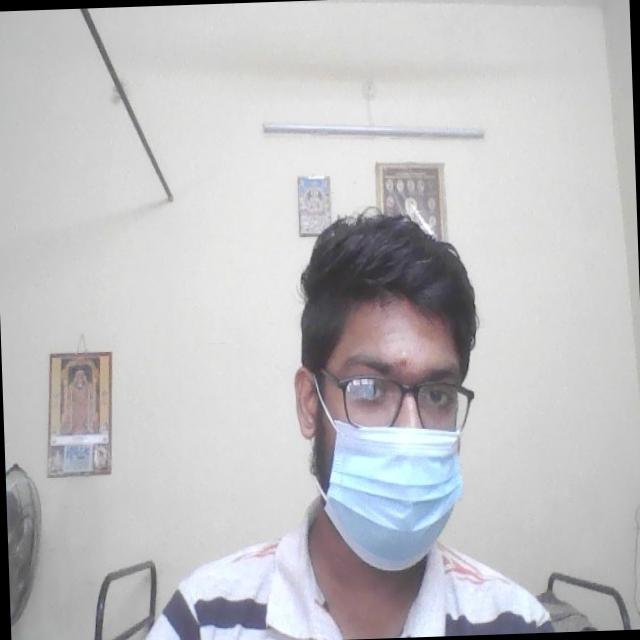Focused: (328, 350, 479, 534)
